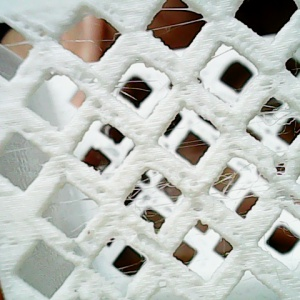3dpstringing: (125, 173, 181, 227), (207, 169, 270, 213), (112, 78, 170, 105), (62, 27, 132, 47), (256, 97, 299, 129), (147, 19, 213, 34), (45, 195, 99, 211), (175, 135, 211, 154), (60, 221, 91, 242), (115, 258, 146, 278), (4, 38, 41, 53), (6, 143, 44, 157), (156, 5, 204, 15), (273, 220, 295, 240), (208, 45, 239, 58)
3dpunderextrusion: (64, 59, 115, 111), (123, 230, 188, 260), (269, 153, 300, 209), (4, 13, 58, 41), (182, 171, 205, 219)
